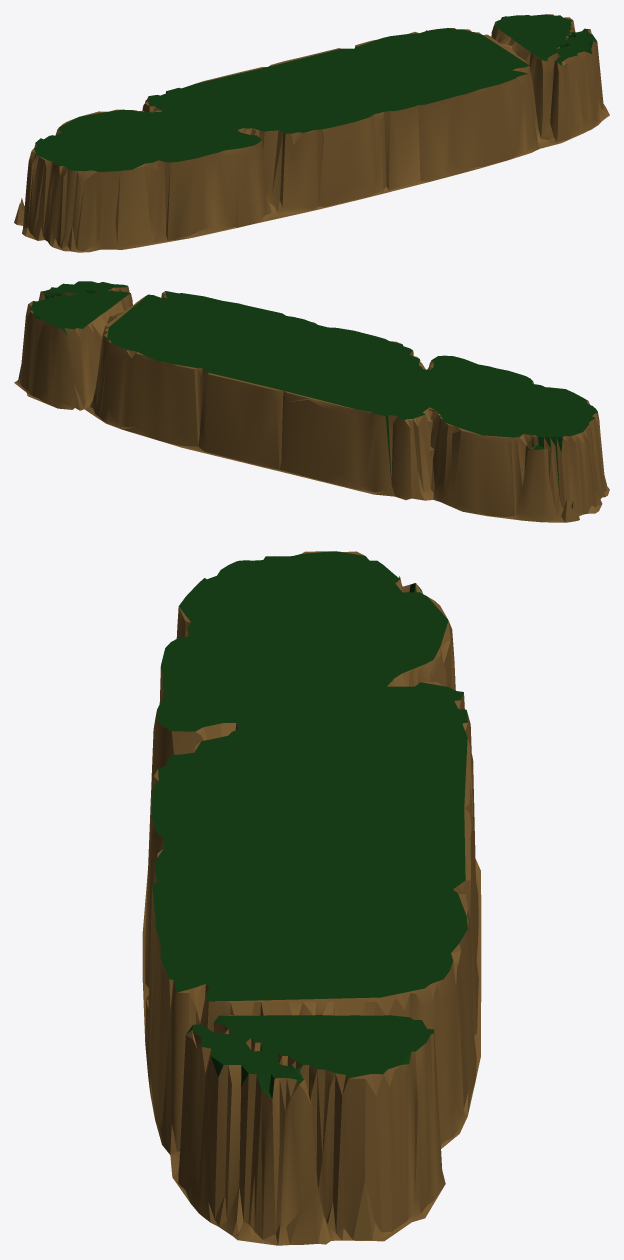
File: landscape.fbx
The picture shows the model from 3 angles, top to bottom: view 1: azimuth 30°, elevation 25°; view 2: azimuth 150°, elevation 25°; view 3: azimuth 270°, elevation 25°; orthographic projection. The views are drawn at different scales.
Parts seen in each view (by area): view 1: Landscape.006; view 2: Landscape.006; view 3: Landscape.006.
Part boxes in pixels (x1,y1,x2,y2): Landscape.006: (14,14,609,252); Landscape.006: (14,281,609,522); Landscape.006: (142,551,481,1245).
Bounding box in the file's own units: 194 × 25.07 × 50.01.
